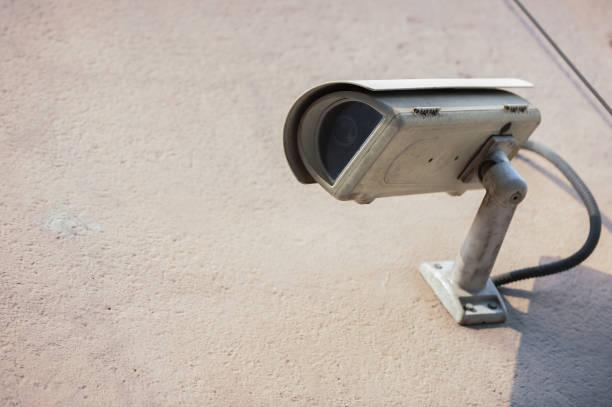camera: (250, 59, 574, 228)
